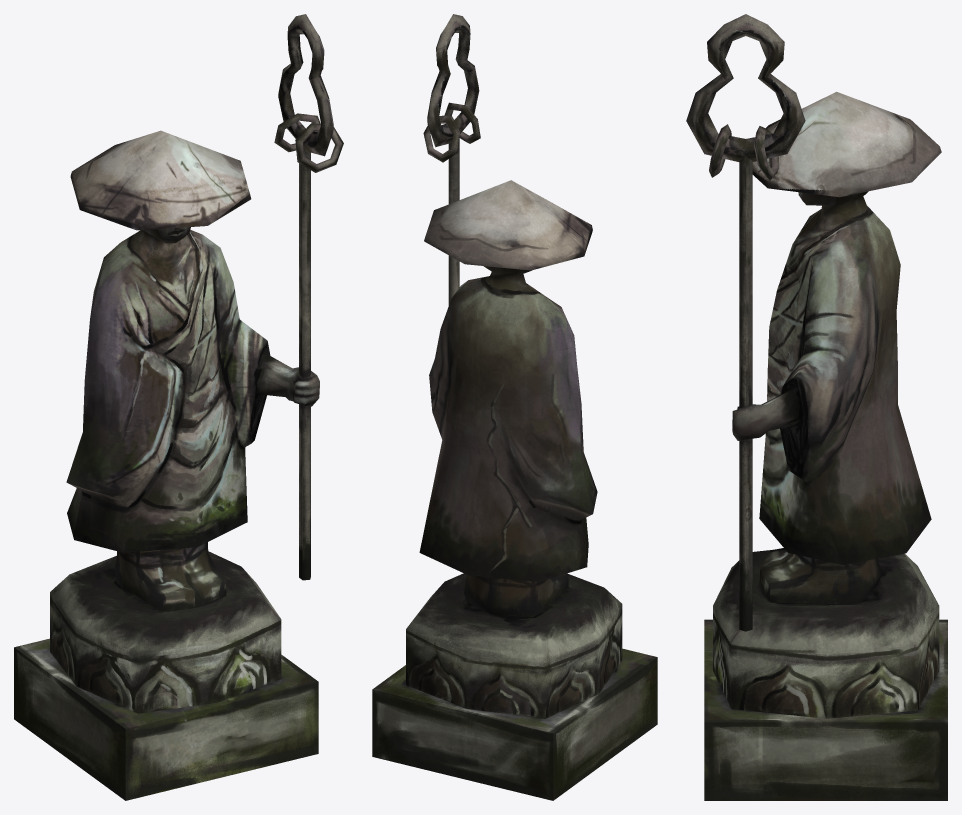
File: PRP_GraveStatueB.FBX
The picture shows the model from 3 angles, left to right: view 1: azimuth 30°, elevation 25°; view 2: azimuth 150°, elevation 25°; view 3: azimuth 270°, elevation 25°; orthographic projection. The views are drawn at different scales.
Visible parts, largest first — view 1: PRP_GraveStatueB; view 2: PRP_GraveStatueB; view 3: PRP_GraveStatueB.
Boxes of the visible parts, x1,y1,x2,y2 form: PRP_GraveStatueB: [14, 14, 343, 800]; PRP_GraveStatueB: [372, 14, 657, 800]; PRP_GraveStatueB: [686, 14, 947, 800].
Bounding box in the file's own units: 213 × 658 × 197.
1 material, 1 textured.
